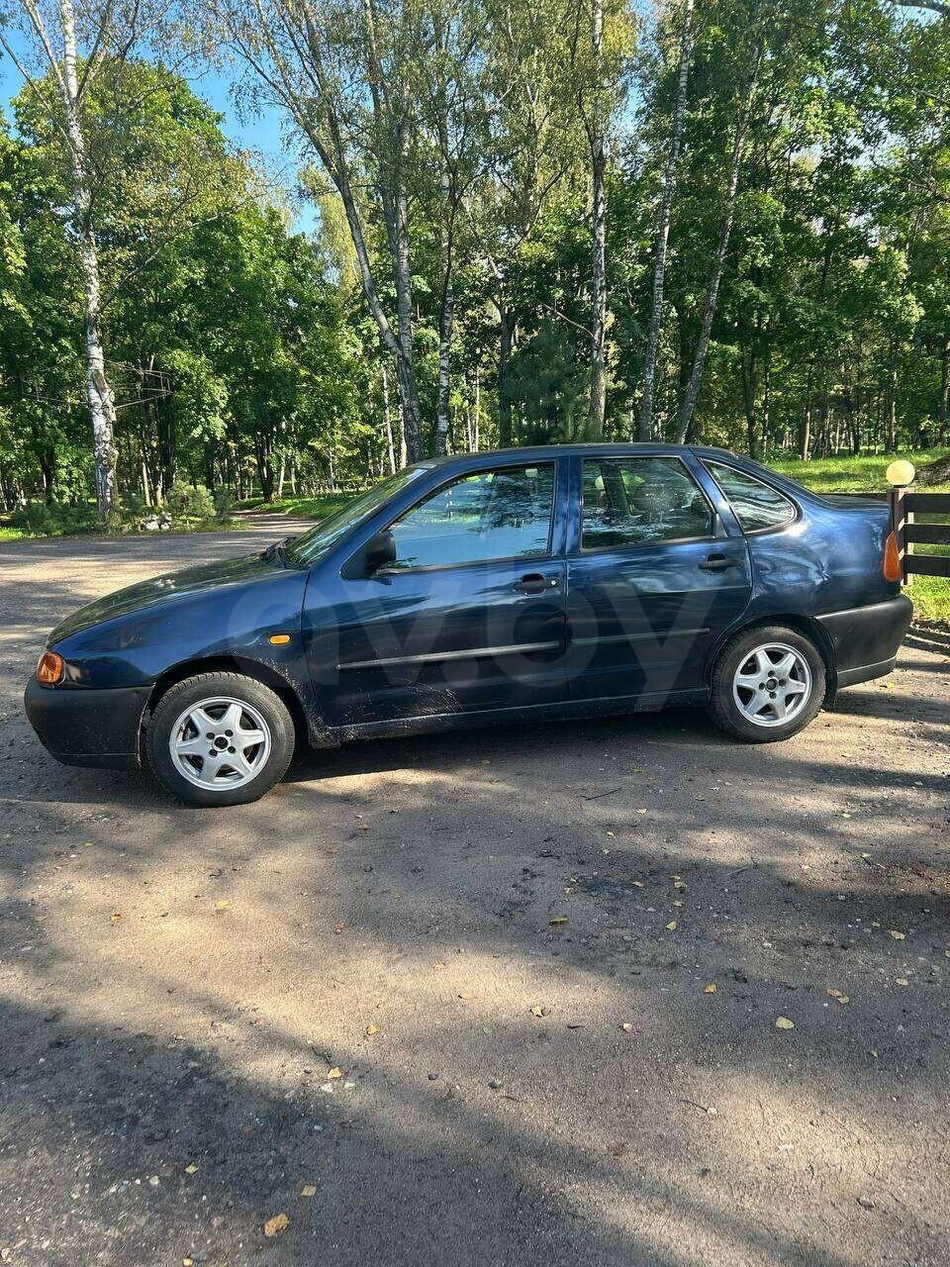Polo_1994-2002: (0, 433, 934, 810)
